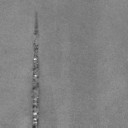slag inclusion: (29, 10, 41, 128)
